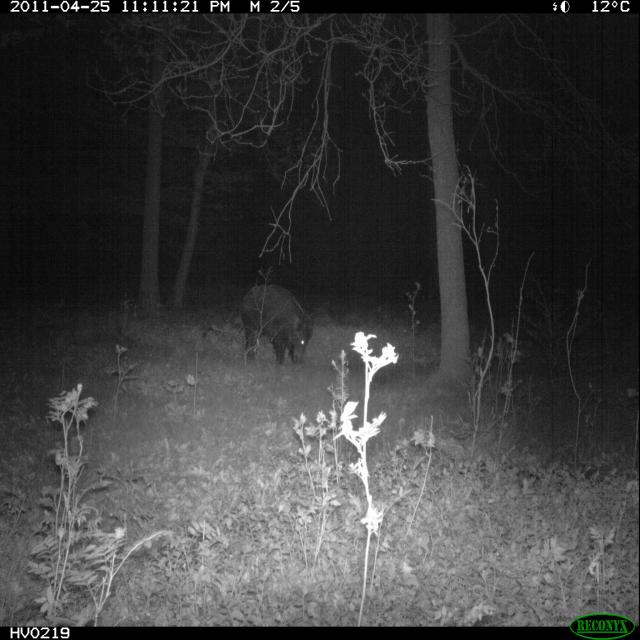boar: (225, 258, 330, 386)
